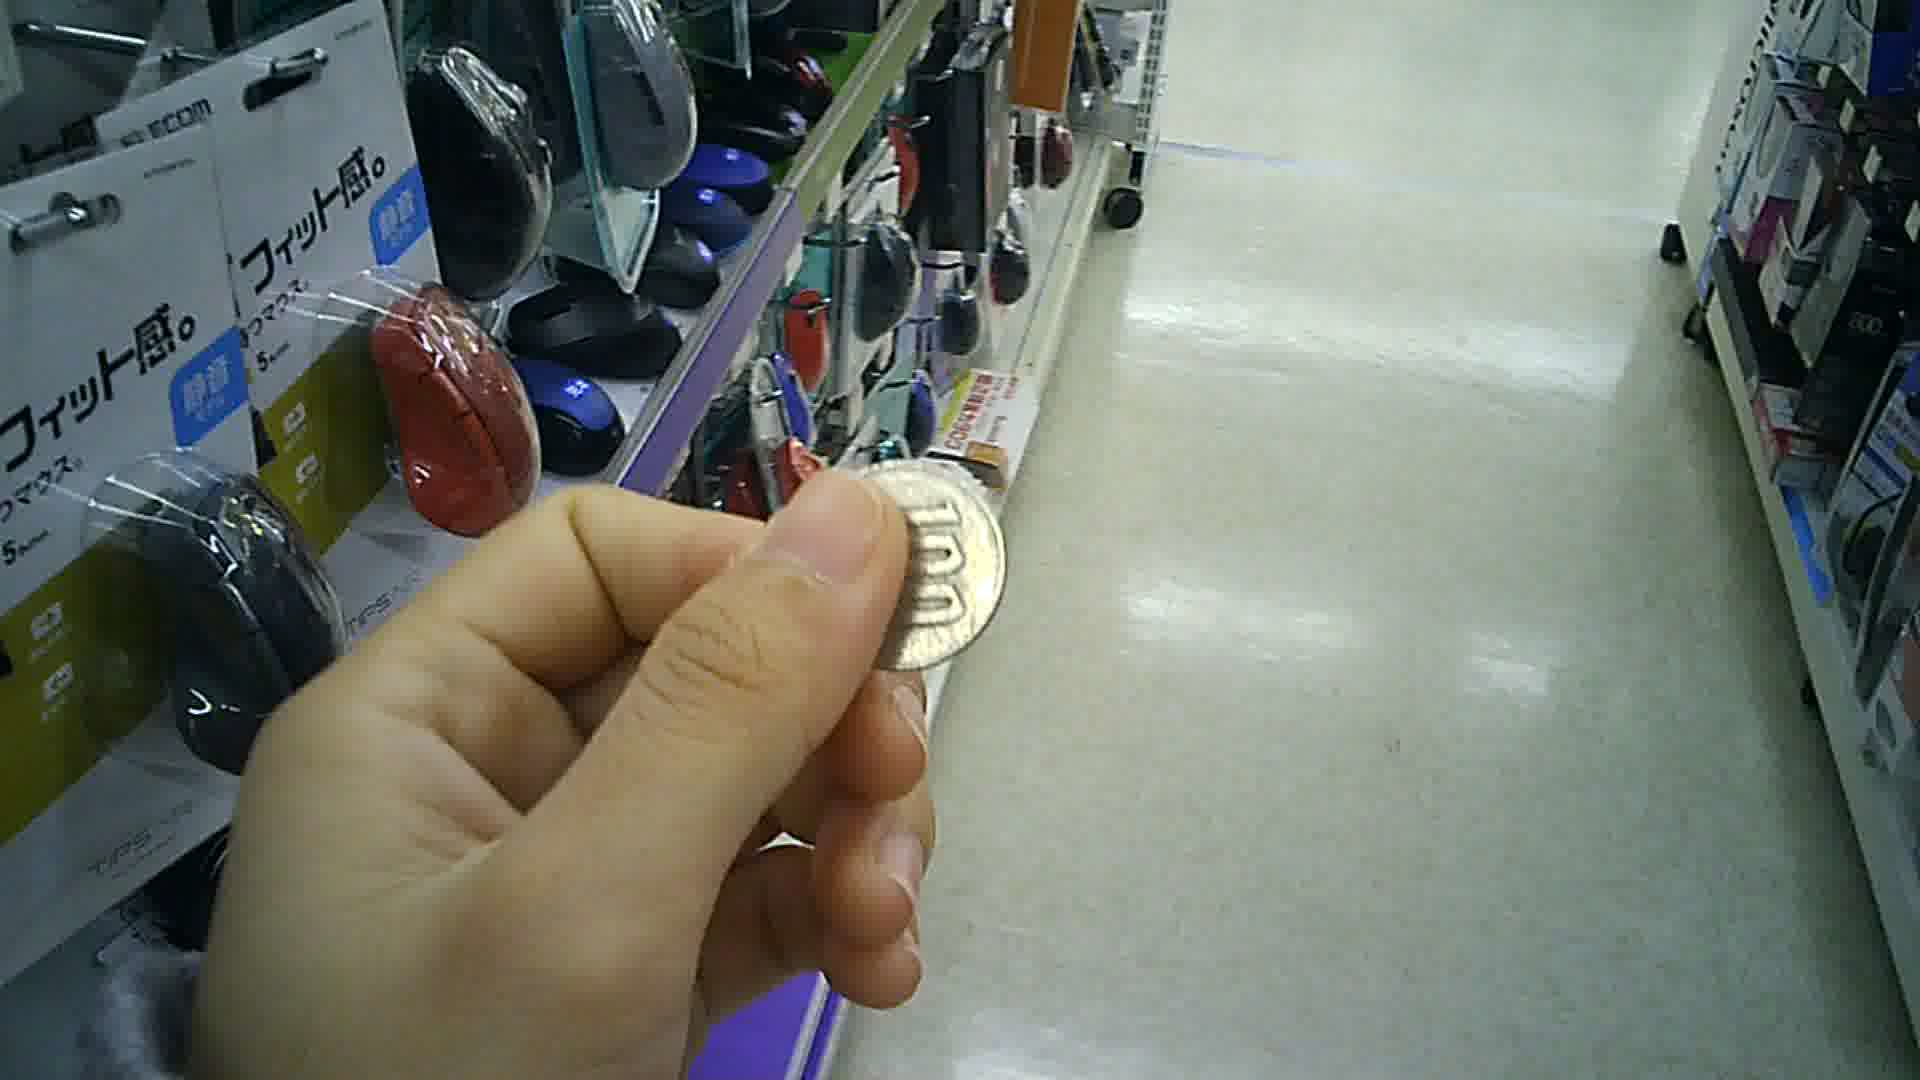100 Yen: (824, 447, 1011, 680)
